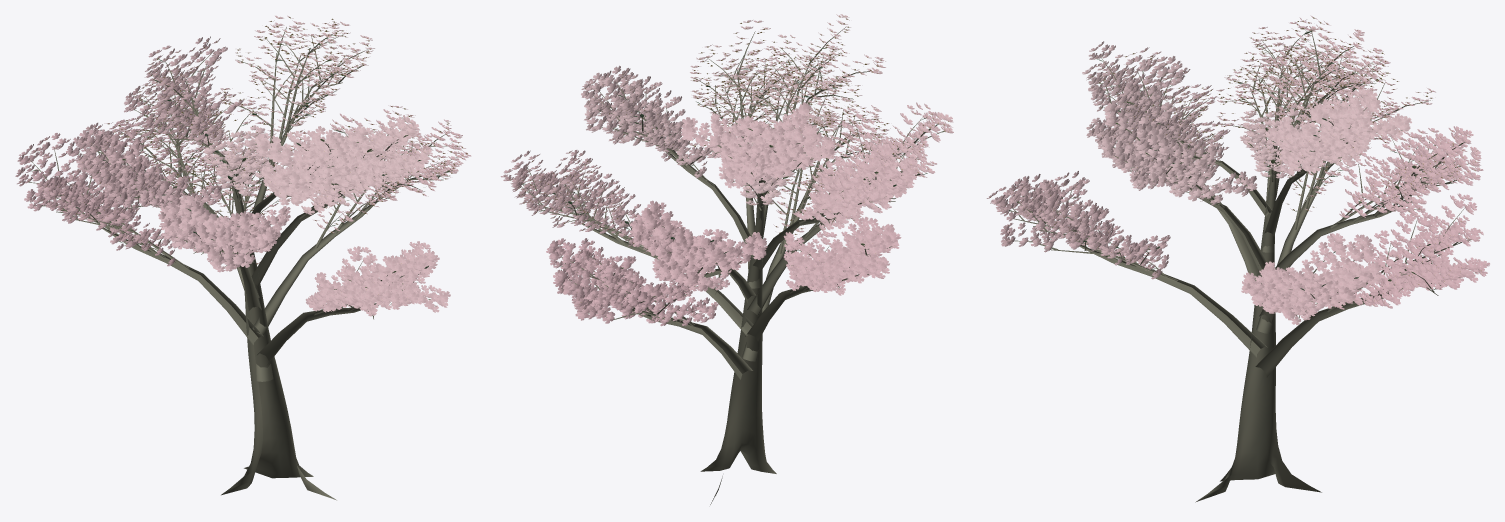
3 views of the same model, side by side, from view 1: azimuth 30°, elevation 25°; view 2: azimuth 150°, elevation 25°; view 3: azimuth 270°, elevation 25° (orthographic). The views are drawn at different scales.
Parts seen in each view (by area): view 1: leaves, branches; view 2: leaves, branches; view 3: leaves, branches.
Part boxes in pixels (x1,y1,x2,y2): leaves: (15, 15, 471, 316); branches: (28, 27, 457, 500); leaves: (500, 14, 953, 326); branches: (515, 27, 943, 504); leaves: (986, 15, 1489, 325); branches: (1003, 27, 1469, 502).
Size of the model in its own units: 8.95 by 8.87 by 9.27.
